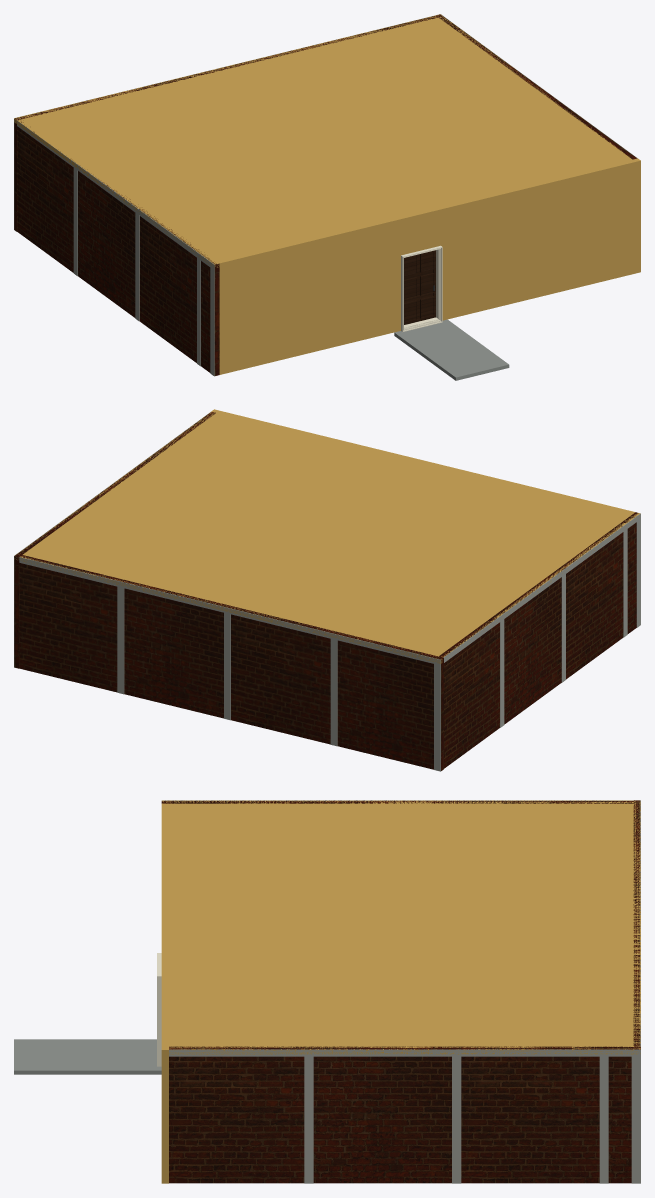
File: building.glb
3 renders of one model, top to bottom at view 1: azimuth 30°, elevation 25°; view 2: azimuth 150°, elevation 25°; view 3: azimuth 270°, elevation 25°, orthographic. The views are drawn at different scales.
Visible parts, largest first — view 1: roof/house:0/roof_slab#0001, house:0/edge0/z0/house:0/edge0/z0/wall_0_0, house:0/edge3/z0/house:0/edge3/z0/wall_0_0, entrance/camino_acceso/entrance_passage#0001, house:0/edge2/z0/house:0/edge2/z0/wall_0_0, house:0/edge3/z0/house:0/edge3/z0/beam_0_0, house:0/edge1/z0/house:0/edge1/z0/wall_0_0, house:0/edge3/z0/house:0/edge3/z0/column_1_0, house:0/edge3/z0/house:0/edge3/z0/column_2_0, house:0/edge3/z0/house:0/edge3/z0/column_3_0; view 2: roof/house:0/roof_slab#0001, house:0/edge2/z0/house:0/edge2/z0/wall_0_0, house:0/edge3/z0/house:0/edge3/z0/wall_0_0, house:0/edge2/z0/house:0/edge2/z0/beam_0_0, house:0/edge1/z0/house:0/edge1/z0/wall_0_0, house:0/edge0/z0/house:0/edge0/z0/wall_0_0, house:0/edge3/z0/house:0/edge3/z0/beam_0_0, house:0/edge2/z0/house:0/edge2/z0/column_2_0, house:0/edge2/z0/house:0/edge2/z0/column_4_0, house:0/edge2/z0/house:0/edge2/z0/column_1_0, house:0/edge2/z0/house:0/edge2/z0/column_3_0, house:0/edge3/z0/house:0/edge3/z0/column_1_0 (+3 smaller); view 3: roof/house:0/roof_slab#0001, house:0/edge1/z0/house:0/edge1/z0/wall_0_0, entrance/camino_acceso/entrance_passage#0001, house:0/edge1/z0/house:0/edge1/z0/beam_0_0, house:0/edge0/z0/house:0/edge0/z0/wall_0_0, house:0/edge2/z0/house:0/edge2/z0/wall_0_0, house:0/edge3/z0/house:0/edge3/z0/wall_0_0, house:0/edge1/z0/house:0/edge1/z0/column_2_0, house:0/edge1/z0/house:0/edge1/z0/column_1_0, house:0/edge1/z0/house:0/edge1/z0/column_3_0, house:0/edge1/z0/house:0/edge1/z0/column_4_0.
Part boxes in pixels (x1=…): roof/house:0/roof_slab#0001: x1=14, y1=14, x2=640, y2=267; house:0/edge0/z0/house:0/edge0/z0/wall_0_0: x1=217, y1=158, x2=640, y2=374; house:0/edge3/z0/house:0/edge3/z0/wall_0_0: x1=17, y1=120, x2=219, y2=375; entrance/camino_acceso/entrance_passage#0001: x1=394, y1=319, x2=509, y2=380; house:0/edge2/z0/house:0/edge2/z0/wall_0_0: x1=14, y1=16, x2=437, y2=231; house:0/edge3/z0/house:0/edge3/z0/beam_0_0: x1=17, y1=121, x2=214, y2=270; house:0/edge1/z0/house:0/edge1/z0/wall_0_0: x1=436, y1=14, x2=636, y2=159; house:0/edge3/z0/house:0/edge3/z0/column_1_0: x1=210, y1=268, x2=214, y2=376; house:0/edge3/z0/house:0/edge3/z0/column_2_0: x1=73, y1=168, x2=77, y2=276; house:0/edge3/z0/house:0/edge3/z0/column_3_0: x1=135, y1=213, x2=139, y2=321; roof/house:0/roof_slab#0001: x1=14, y1=410, x2=640, y2=663; house:0/edge2/z0/house:0/edge2/z0/wall_0_0: x1=19, y1=555, x2=443, y2=770; house:0/edge3/z0/house:0/edge3/z0/wall_0_0: x1=439, y1=512, x2=638, y2=768; house:0/edge2/z0/house:0/edge2/z0/beam_0_0: x1=19, y1=557, x2=440, y2=665; house:0/edge1/z0/house:0/edge1/z0/wall_0_0: x1=14, y1=412, x2=215, y2=668; house:0/edge0/z0/house:0/edge0/z0/wall_0_0: x1=211, y1=409, x2=635, y2=513; house:0/edge3/z0/house:0/edge3/z0/beam_0_0: x1=444, y1=513, x2=640, y2=662; house:0/edge2/z0/house:0/edge2/z0/column_2_0: x1=117, y1=586, x2=124, y2=694; house:0/edge2/z0/house:0/edge2/z0/column_4_0: x1=330, y1=639, x2=337, y2=746; house:0/edge2/z0/house:0/edge2/z0/column_1_0: x1=434, y1=664, x2=440, y2=771; house:0/edge2/z0/house:0/edge2/z0/column_3_0: x1=224, y1=612, x2=230, y2=720; house:0/edge3/z0/house:0/edge3/z0/column_1_0: x1=636, y1=519, x2=640, y2=627; roof/house:0/roof_slab#0001: x1=161, y1=800, x2=640, y2=1054; house:0/edge1/z0/house:0/edge1/z0/wall_0_0: x1=169, y1=1046, x2=640, y2=1183; entrance/camino_acceso/entrance_passage#0001: x1=14, y1=1039, x2=161, y2=1074; house:0/edge1/z0/house:0/edge1/z0/beam_0_0: x1=169, y1=1049, x2=640, y2=1056; house:0/edge0/z0/house:0/edge0/z0/wall_0_0: x1=161, y1=803, x2=168, y2=1183; house:0/edge2/z0/house:0/edge2/z0/wall_0_0: x1=633, y1=800, x2=640, y2=1046; house:0/edge3/z0/house:0/edge3/z0/wall_0_0: x1=161, y1=800, x2=633, y2=803; house:0/edge1/z0/house:0/edge1/z0/column_2_0: x1=304, y1=1056, x2=313, y2=1183; house:0/edge1/z0/house:0/edge1/z0/column_1_0: x1=631, y1=1056, x2=640, y2=1183; house:0/edge1/z0/house:0/edge1/z0/column_3_0: x1=452, y1=1056, x2=461, y2=1183; house:0/edge1/z0/house:0/edge1/z0/column_4_0: x1=599, y1=1056, x2=608, y2=1183.
Size of the model in its own units: 16 by 4.12 by 17.
7 materials, 2 textured.
